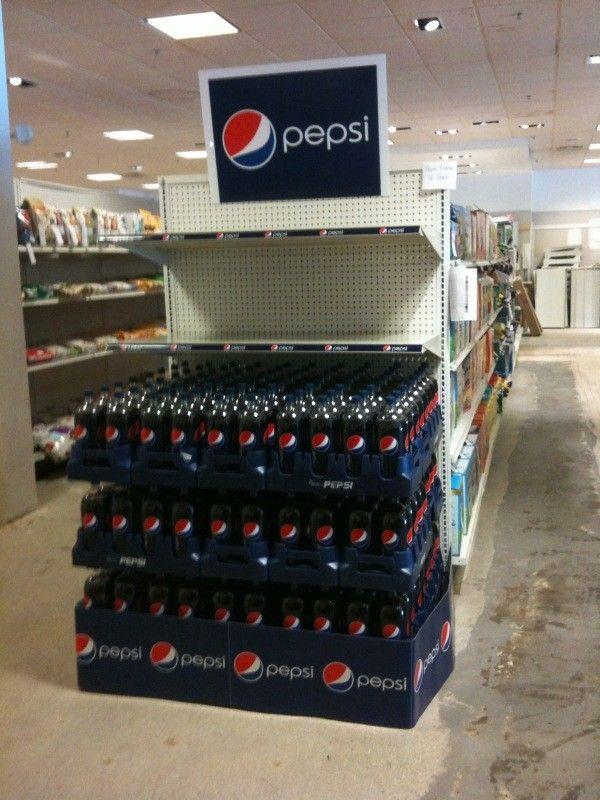pepsi: (218, 104, 283, 166), (322, 650, 353, 689), (322, 656, 353, 695), (232, 645, 265, 679), (148, 635, 179, 668), (72, 631, 96, 660), (308, 428, 333, 450), (140, 422, 156, 449), (208, 426, 227, 448), (241, 521, 265, 538), (438, 621, 452, 649), (140, 428, 158, 449), (168, 423, 186, 444), (378, 436, 403, 451), (112, 513, 131, 532), (103, 424, 123, 442), (179, 599, 200, 616), (279, 431, 297, 449), (345, 431, 362, 450), (384, 524, 401, 542), (349, 620, 367, 637), (284, 609, 300, 628), (75, 423, 92, 440), (381, 624, 401, 638), (247, 609, 268, 622), (317, 523, 333, 540), (114, 594, 131, 610), (352, 526, 370, 541), (237, 428, 256, 442), (143, 516, 160, 531), (209, 517, 225, 532), (215, 606, 231, 620), (148, 599, 165, 612), (147, 599, 164, 612), (315, 614, 329, 629), (174, 521, 189, 534), (283, 522, 297, 535), (81, 514, 95, 526), (81, 594, 94, 605)
